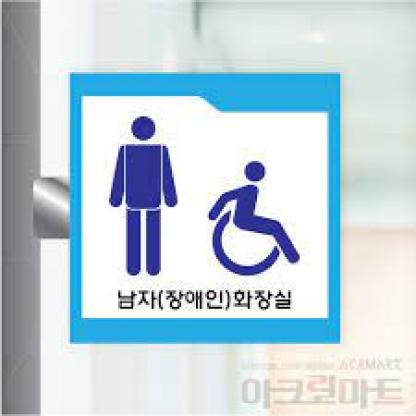toilet: (110, 116, 302, 279)
